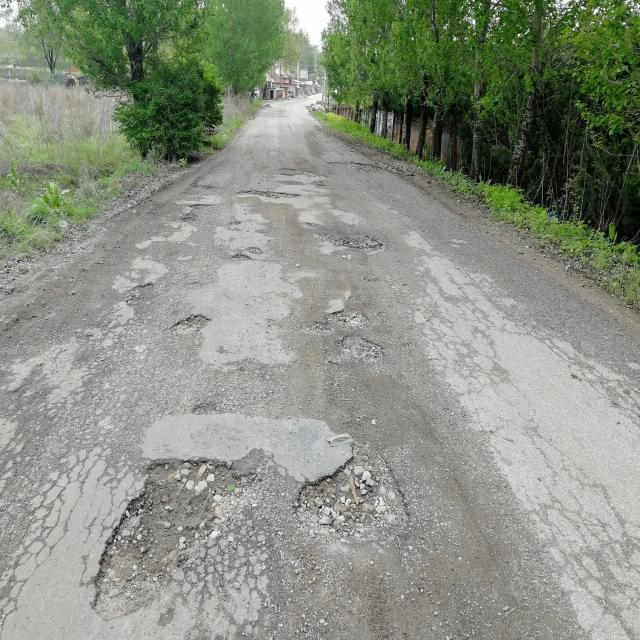Pothole: (93, 437, 245, 628), (292, 445, 385, 552), (168, 306, 216, 346), (332, 230, 390, 262), (318, 300, 374, 326), (239, 185, 304, 206), (329, 338, 396, 358), (326, 161, 391, 181), (226, 236, 264, 264), (180, 199, 216, 227), (128, 275, 158, 294)
